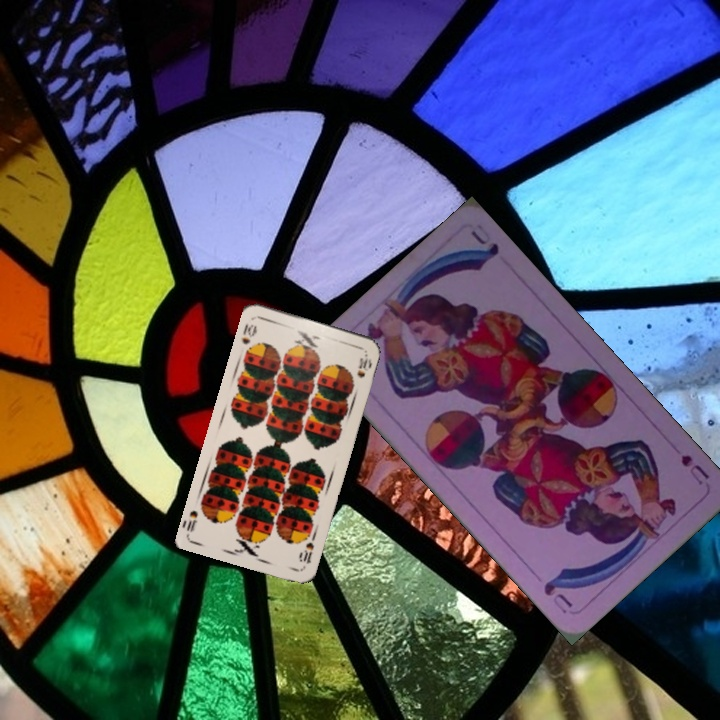S10: (237, 320, 259, 347), (296, 538, 316, 566)
SU: (677, 450, 712, 488)
